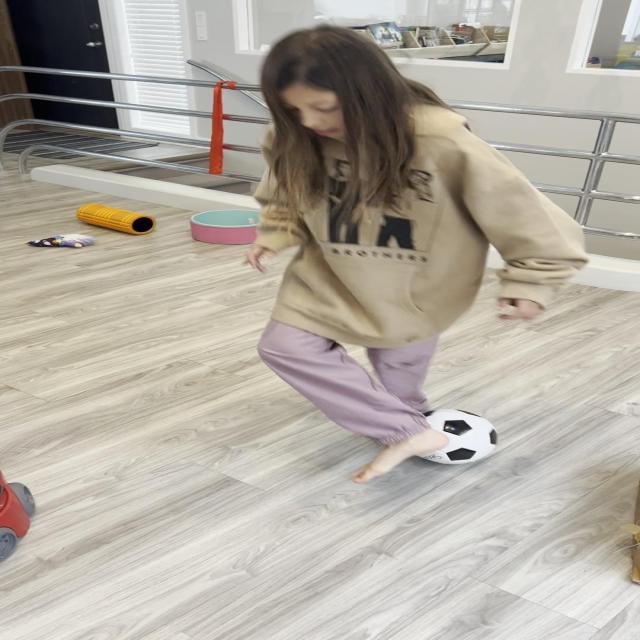Soccer Ball: (400, 409, 501, 465)
